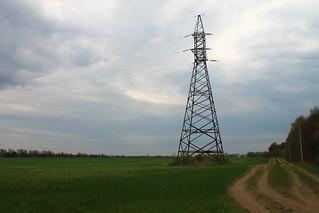power_tower: (167, 11, 227, 164)
